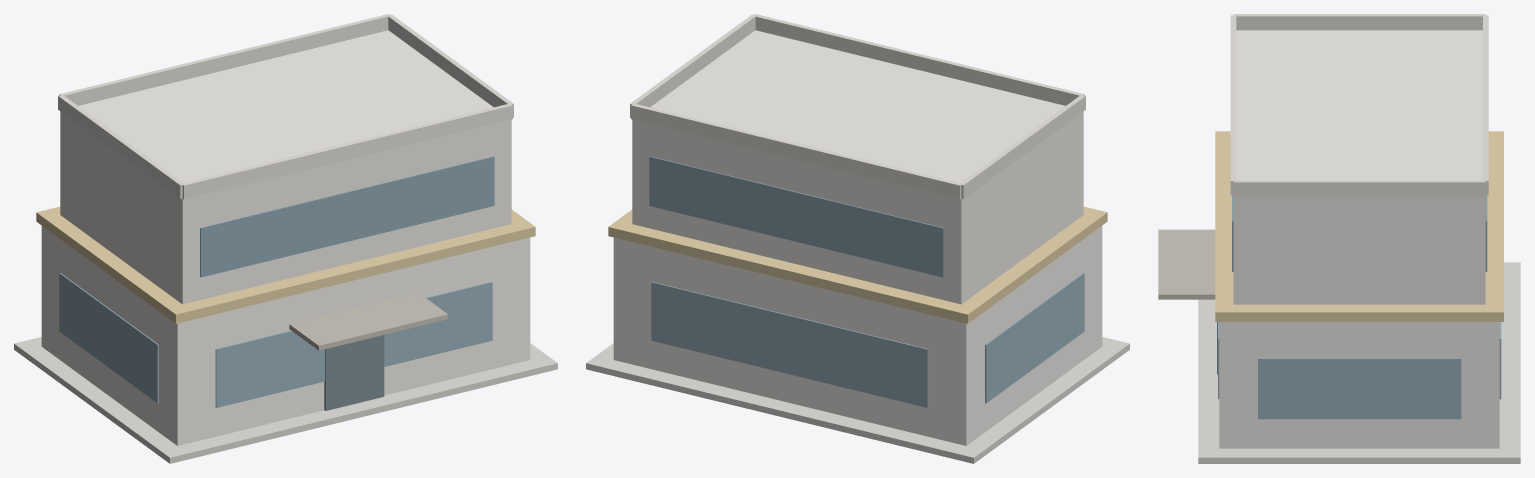
File: bangunan-konsep.glb
The picture shows the model from 3 angles, left to right: view 1: azimuth 30°, elevation 25°; view 2: azimuth 150°, elevation 25°; view 3: azimuth 270°, elevation 25°; orthographic projection. The views are drawn at different scales.
Parts seen in each view (by area): view 1: part_5, part_4, part_0, part_1, part_2, part_3, part_8, part_7, part_6; view 2: part_5, part_4, part_0, part_1, part_2, part_3, part_8; view 3: part_5, part_4, part_0, part_3, part_8, part_1, part_7, part_2.
Boxes of the visible parts, <box> form: part_5: <box>60,30,511,304</box>; part_4: <box>41,226,530,445</box>; part_0: <box>59,273,492,407</box>; part_1: <box>58,14,513,199</box>; part_2: <box>200,156,494,277</box>; part_3: <box>14,337,557,463</box>; part_8: <box>36,206,535,323</box>; part_7: <box>289,292,448,350</box>; part_6: <box>324,335,384,410</box>; part_5: <box>632,30,1083,304</box>; part_4: <box>613,226,1102,445</box>; part_0: <box>651,273,1084,407</box>; part_1: <box>630,14,1085,199</box>; part_2: <box>649,156,943,277</box>; part_3: <box>586,337,1129,463</box>; part_8: <box>608,206,1107,323</box>; part_5: <box>1233,30,1485,304</box>; part_4: <box>1219,322,1499,448</box>; part_0: <box>1218,322,1501,419</box>; part_3: <box>1198,262,1520,463</box>; part_8: <box>1215,131,1503,321</box>; part_1: <box>1230,14,1488,196</box>; part_7: <box>1158,229,1215,299</box>; part_2: <box>1232,195,1487,271</box>.
Bounding box in the file's own units: 13.2 × 8.44 × 10.35.
